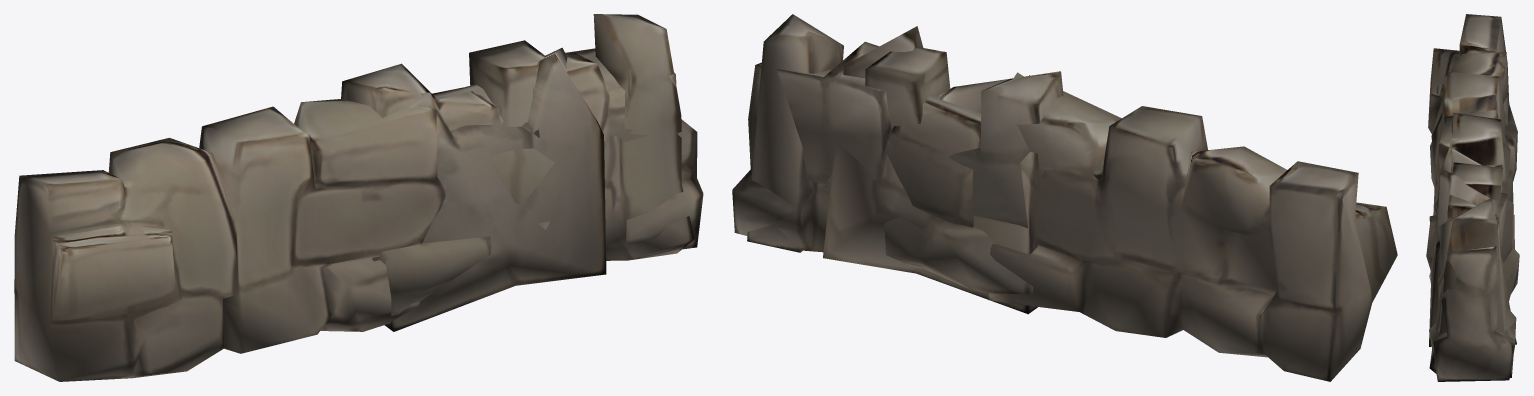
File: Walls.glb
3 renders of one model, left to right at view 1: azimuth 30°, elevation 25°; view 2: azimuth 150°, elevation 25°; view 3: azimuth 270°, elevation 25°, orthographic. The views are drawn at different scales.
Parts seen in each view (by area): view 1: stone_wall; view 2: stone_wall; view 3: stone_wall.
Boxes of the visible parts, left/top/right/bottom form: stone_wall: left=14, top=14, right=703, bottom=381; stone_wall: left=732, top=14, right=1397, bottom=381; stone_wall: left=1426, top=14, right=1519, bottom=381.
Bounding box in the file's own units: 3.38 × 1.14 × 0.5783.
1 material, 1 textured.
